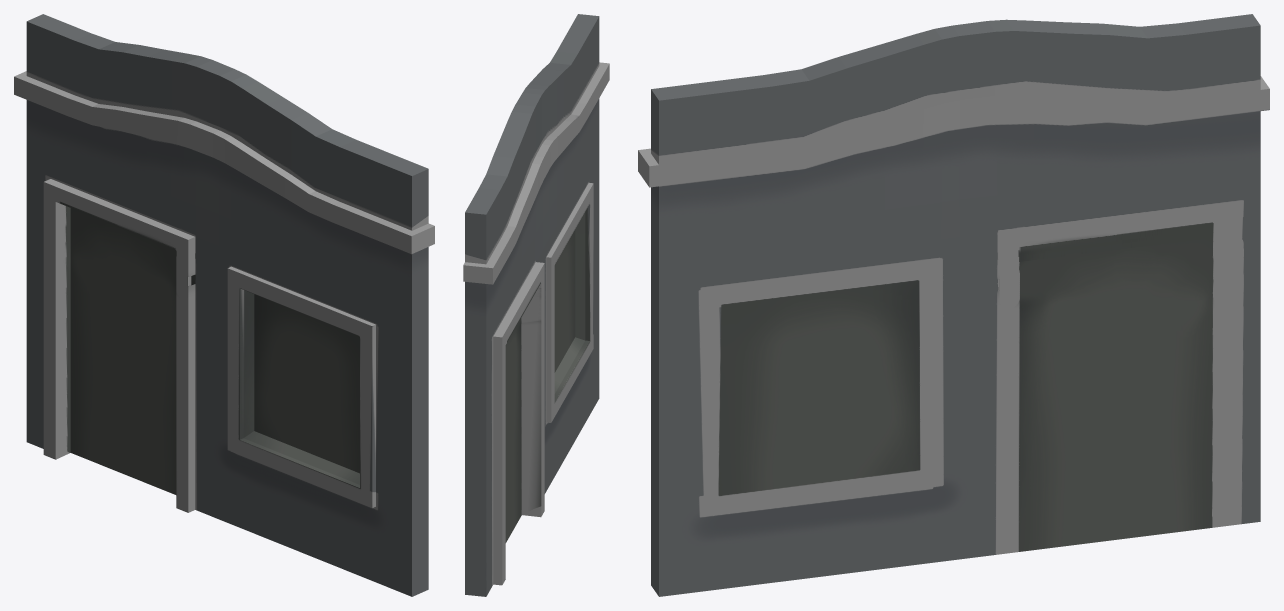
Rendered from casa2.fbx.
3 views of the same model, side by side, from view 1: azimuth 30°, elevation 25°; view 2: azimuth 150°, elevation 25°; view 3: azimuth 270°, elevation 25° (orthographic). The views are drawn at different scales.
Visible parts, largest first — view 1: casa1; view 2: casa1; view 3: casa1.
Boxes of the visible parts, bbox=[...] form: casa1: bbox=[14, 14, 434, 596]; casa1: bbox=[463, 14, 609, 596]; casa1: bbox=[638, 14, 1269, 596].
Bounding box in the file's own units: 70.06 × 182 × 200.
1 material, 1 textured.
